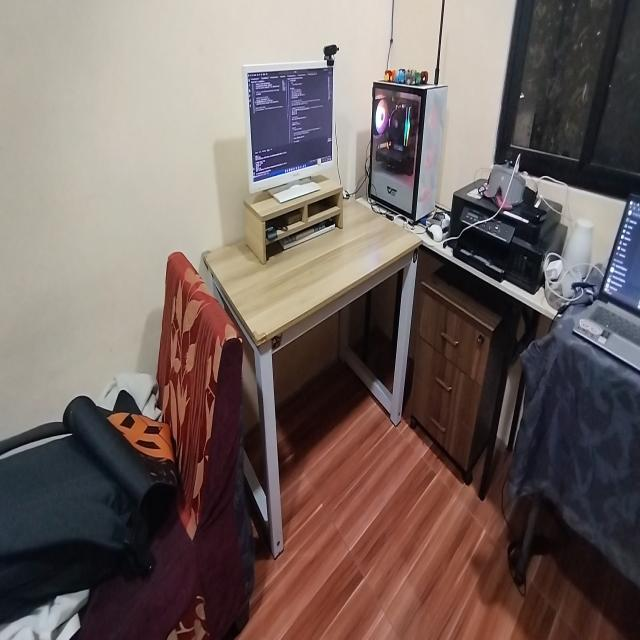table: (225, 184, 422, 510)
